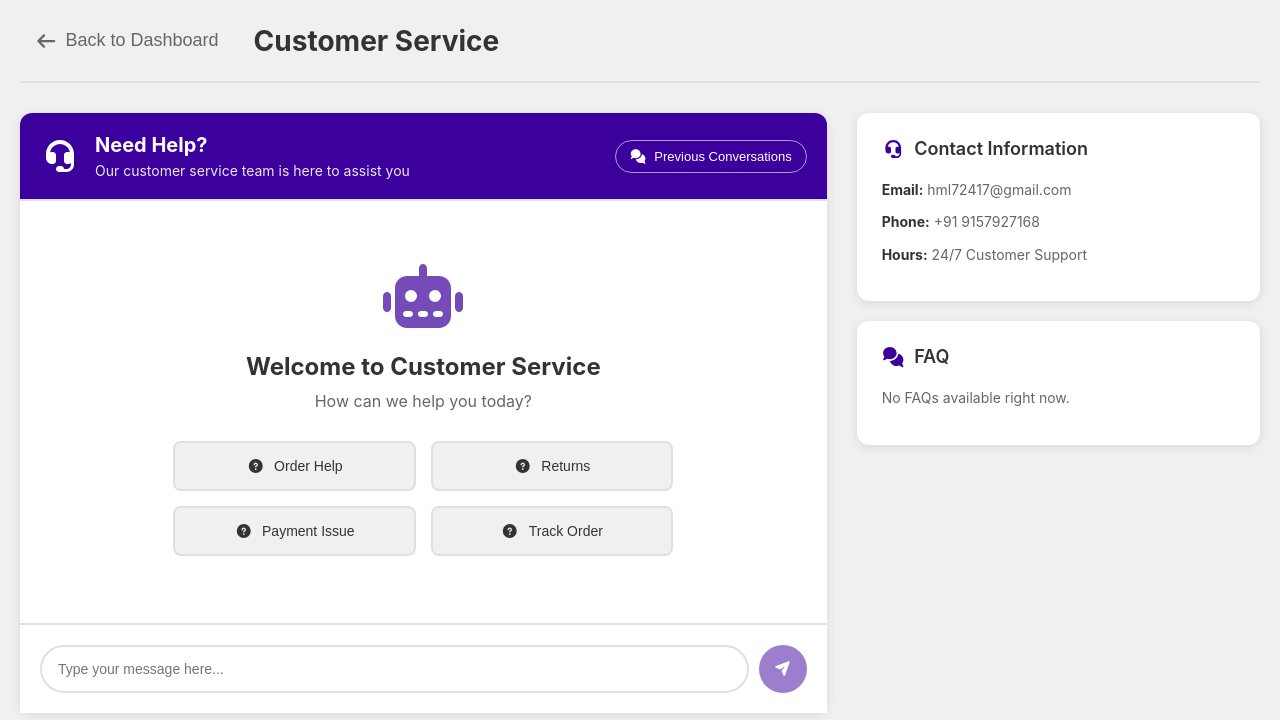
CustomerService Component › sends message and shows bot response
Type "Hello" into the field with placeholder "Type your message here..." at (394, 669), box [40,645,749,693]
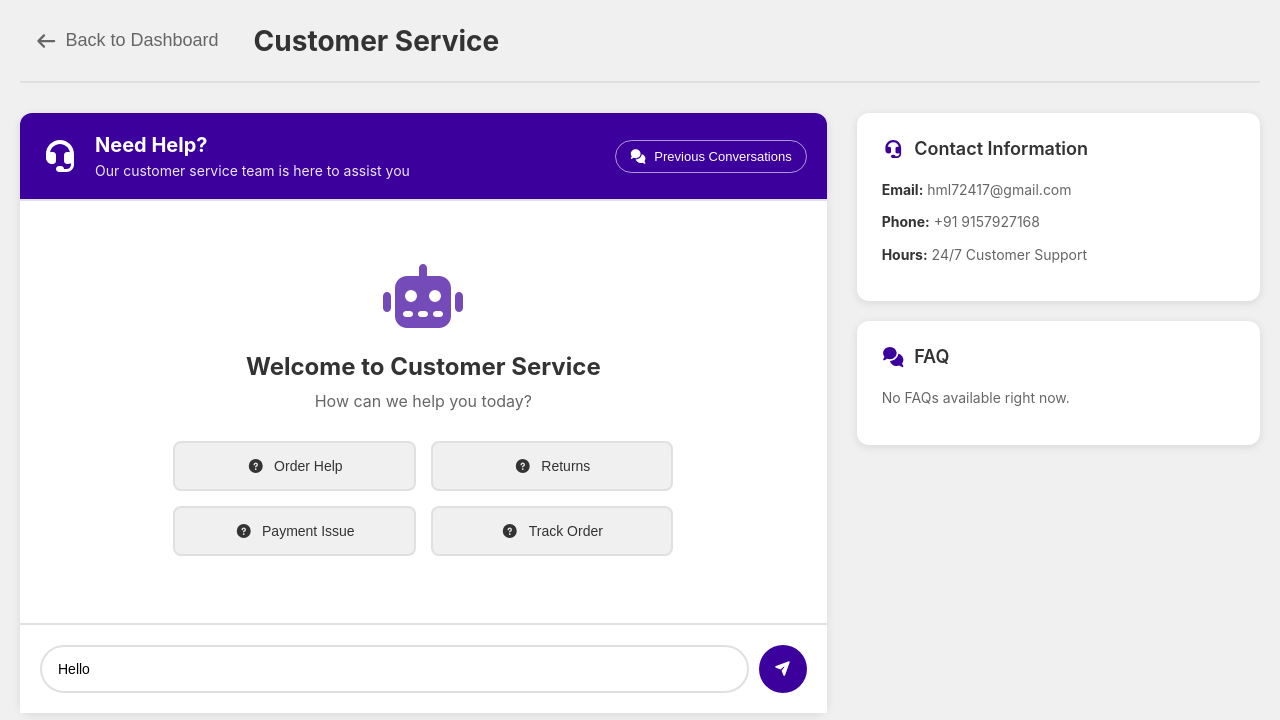
Click the button named "send message" at (783, 669), box [759,645,807,693]
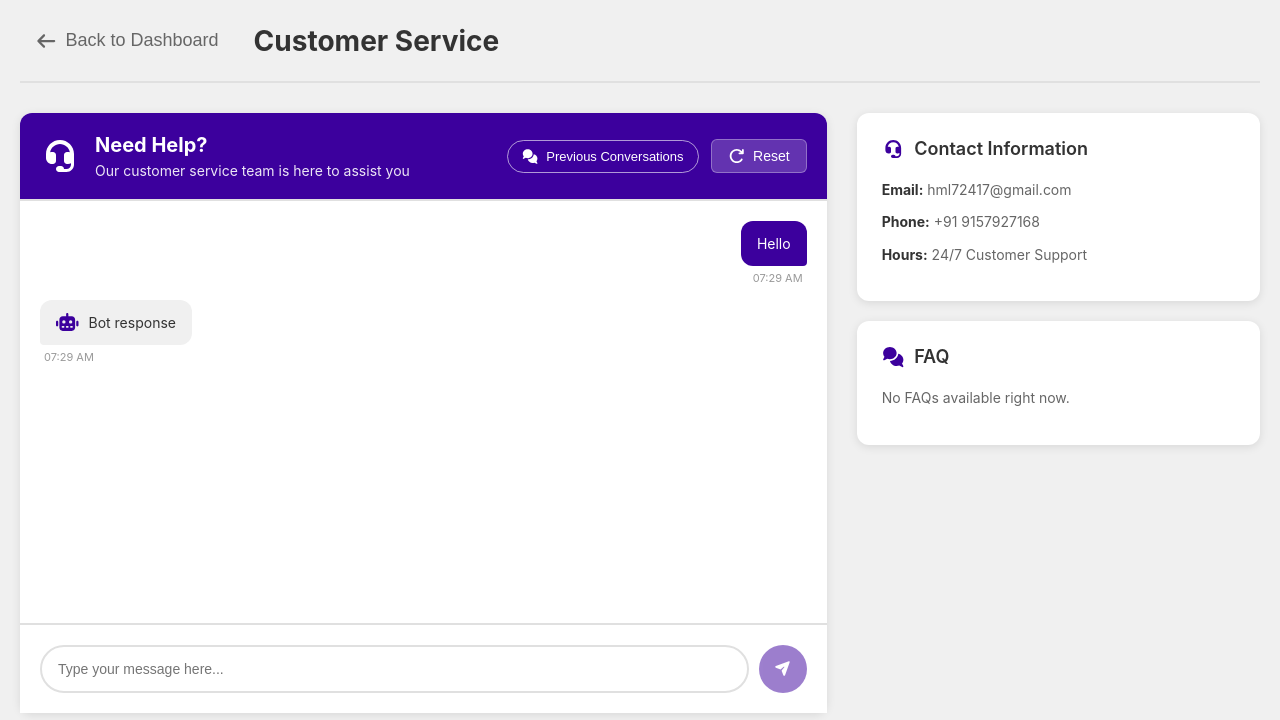
Expected: the text "Hello" is shown, [757,233,791,254]
Expected: the text "Bot response" is shown, [88,312,176,333]
